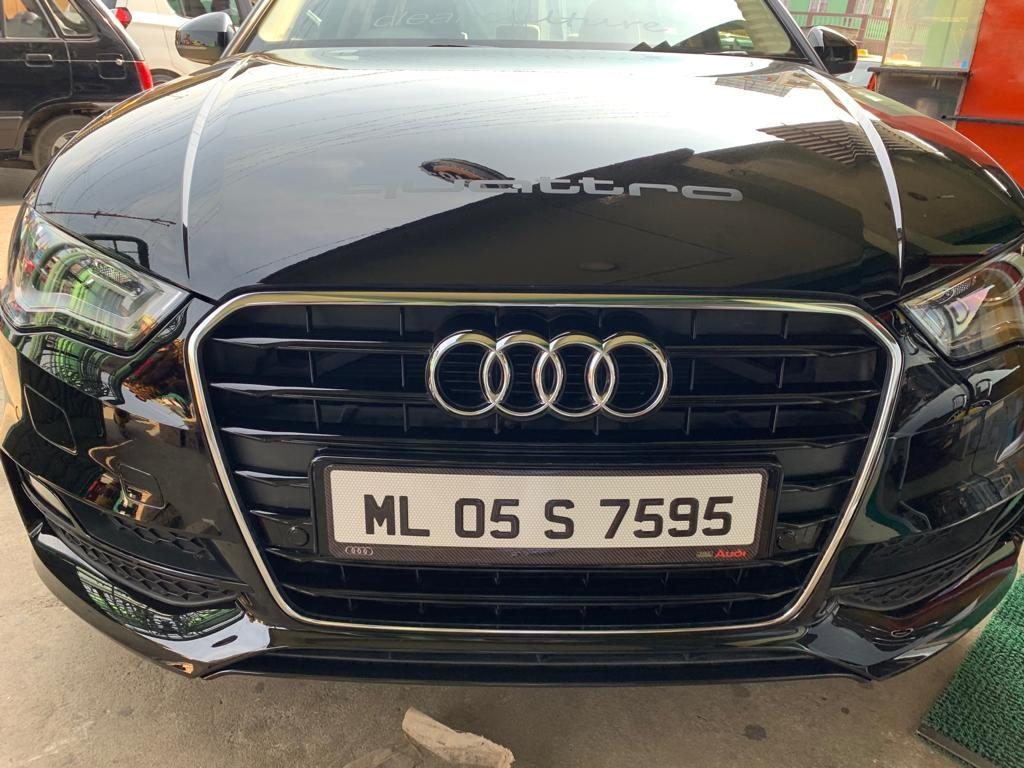number_plate: (313, 454, 779, 576)
